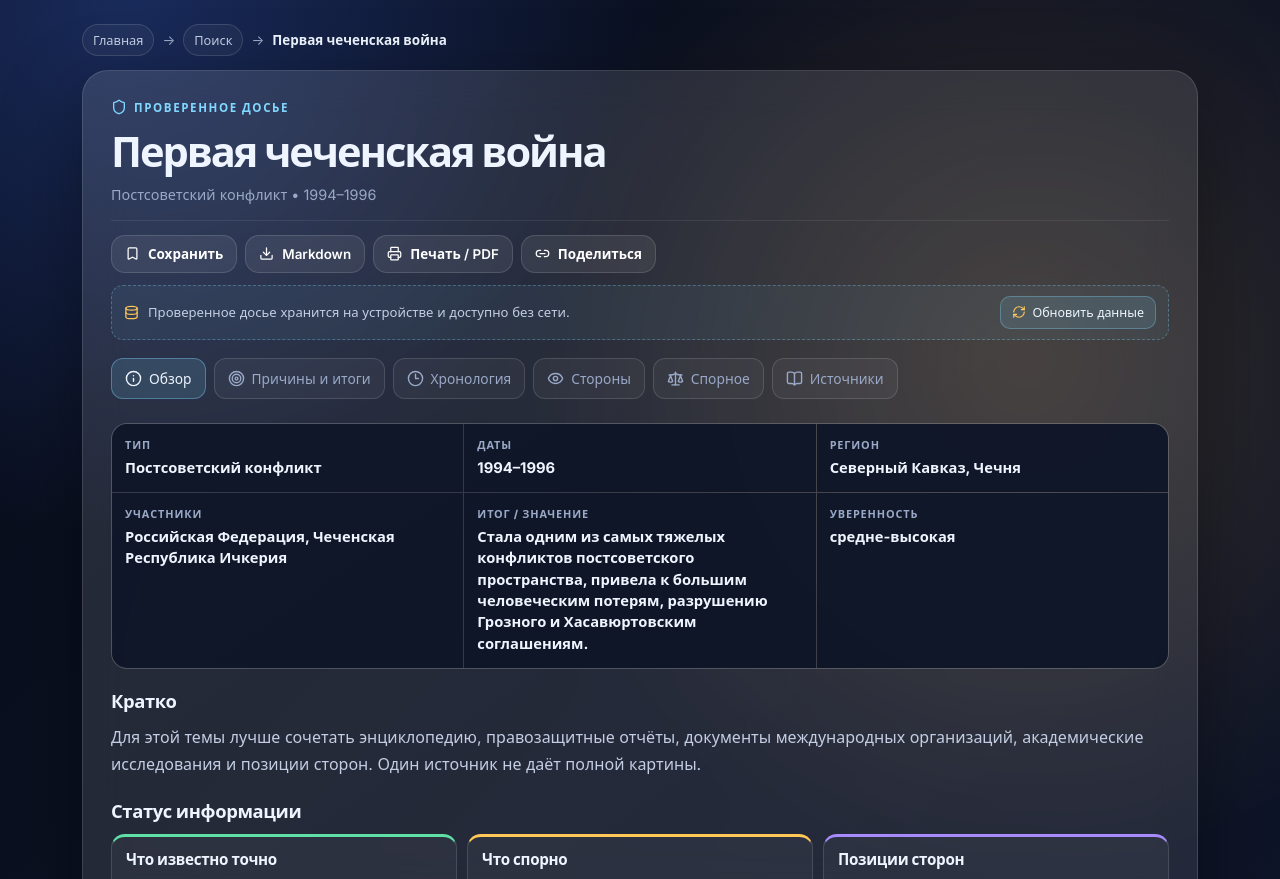
it: DossierPage › shows an infobox and switches between dossier sections
Expected: the heading "Первая чеченская война" is shown, 111,127 -> 606,177
Expected: the text "Уверенность" is shown, 830,507 -> 918,521
Click the button "Хронология": (459, 378) 392,358 -> 525,399
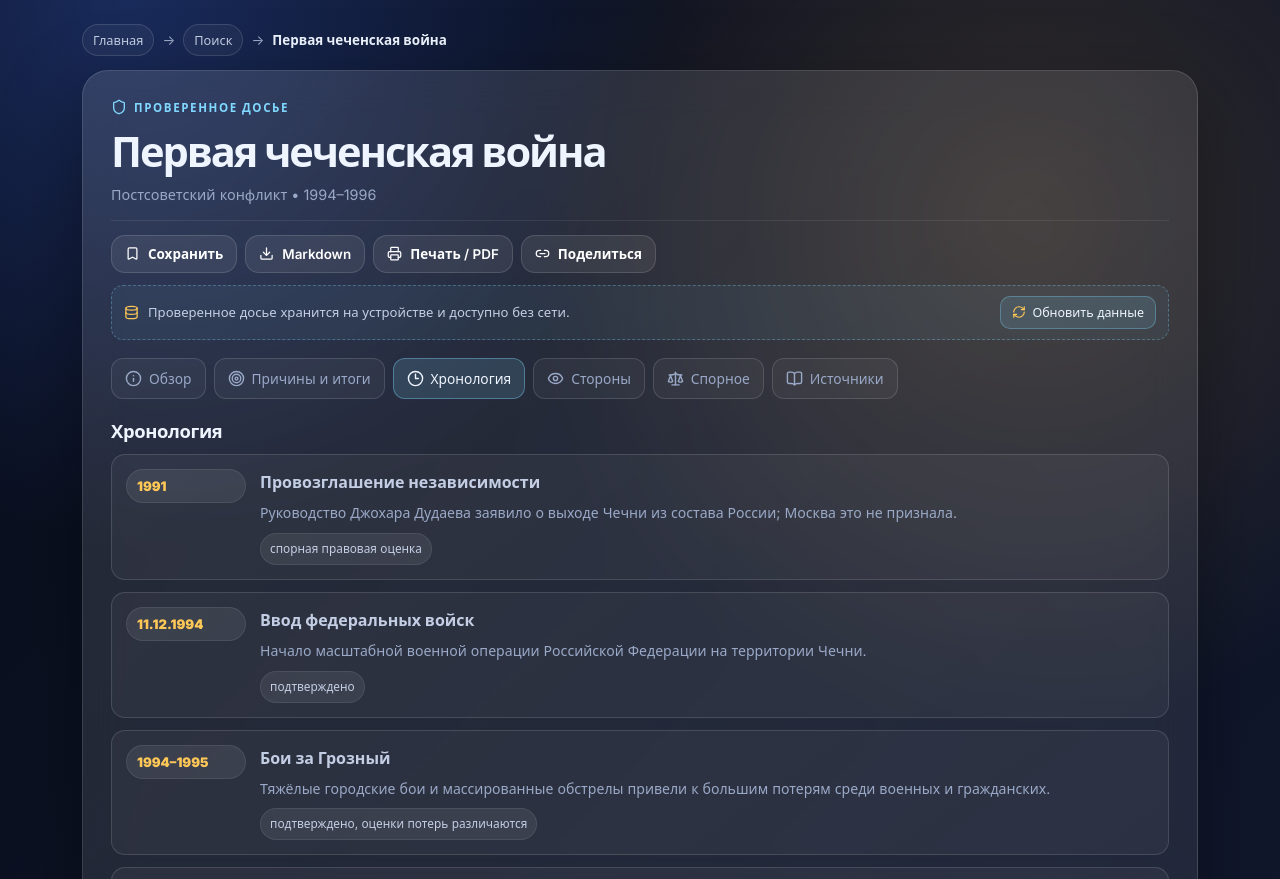
Click the button "Спорное": (708, 378) 653,358 -> 764,399
(page scrolled)
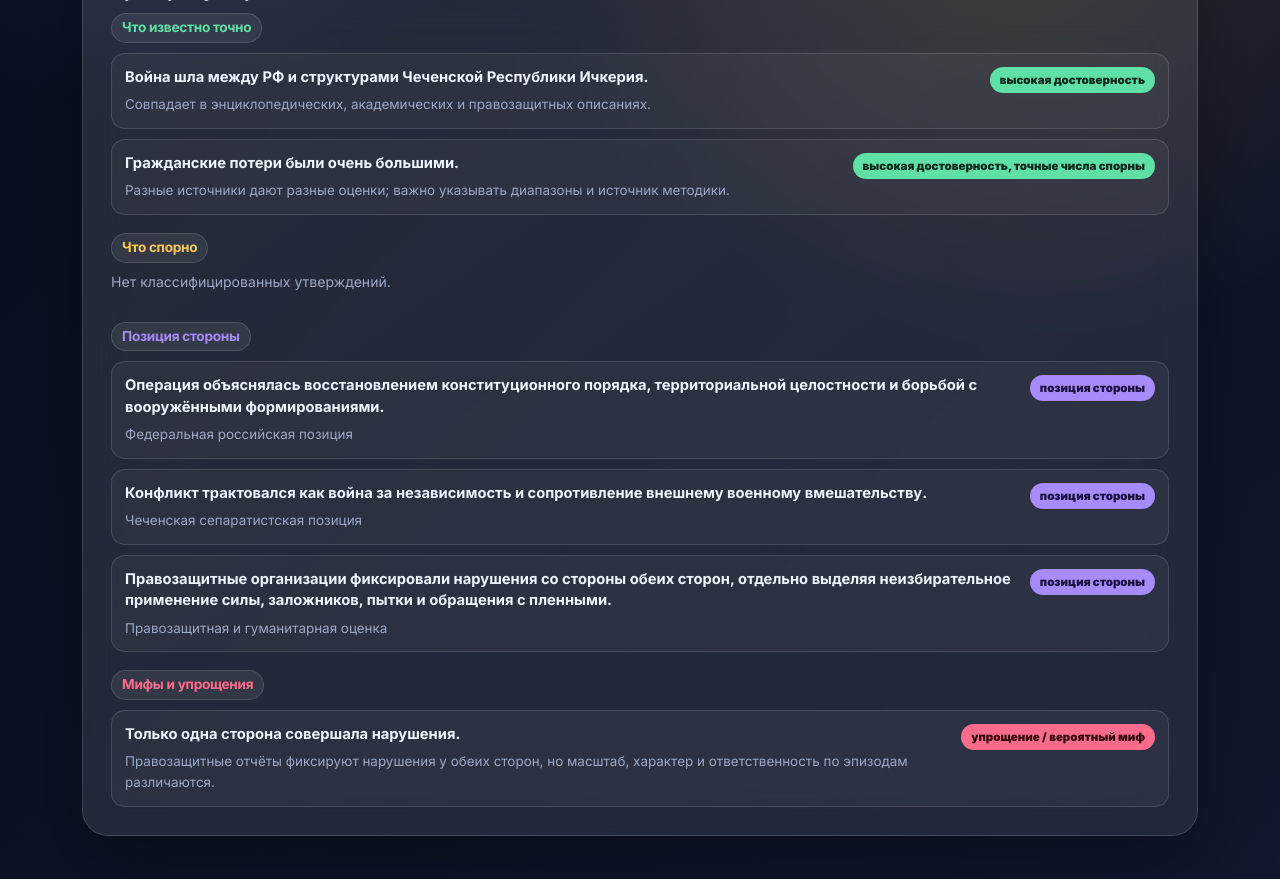
Now the heading "Мифы и упрощения" is shown, box 111,670 -> 264,700
Now the text "Только одна сторона совершала нарушения." is shown, box 125,725 -> 460,743
